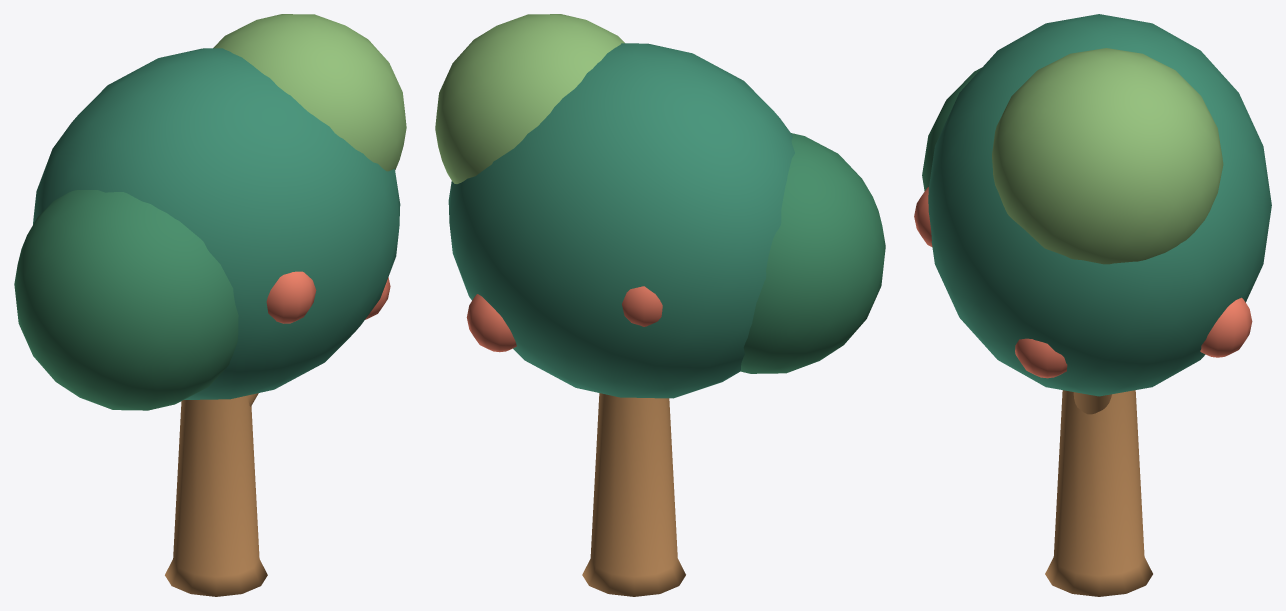
File: tree-D908RRtf.glb
3 views of the same model, side by side, from view 1: azimuth 30°, elevation 25°; view 2: azimuth 150°, elevation 25°; view 3: azimuth 270°, elevation 25° (orthographic). The views are drawn at different scales.
Parts seen in each view (by area): view 1: tree_surfaces; view 2: tree_surfaces; view 3: tree_surfaces.
Part boxes in pixels (x1,y1,x2,y2): tree_surfaces: (14,14,406,596); tree_surfaces: (435,14,885,596); tree_surfaces: (914,14,1271,596).
Size of the model in its own units: 3.23 by 4.19 by 2.44.
